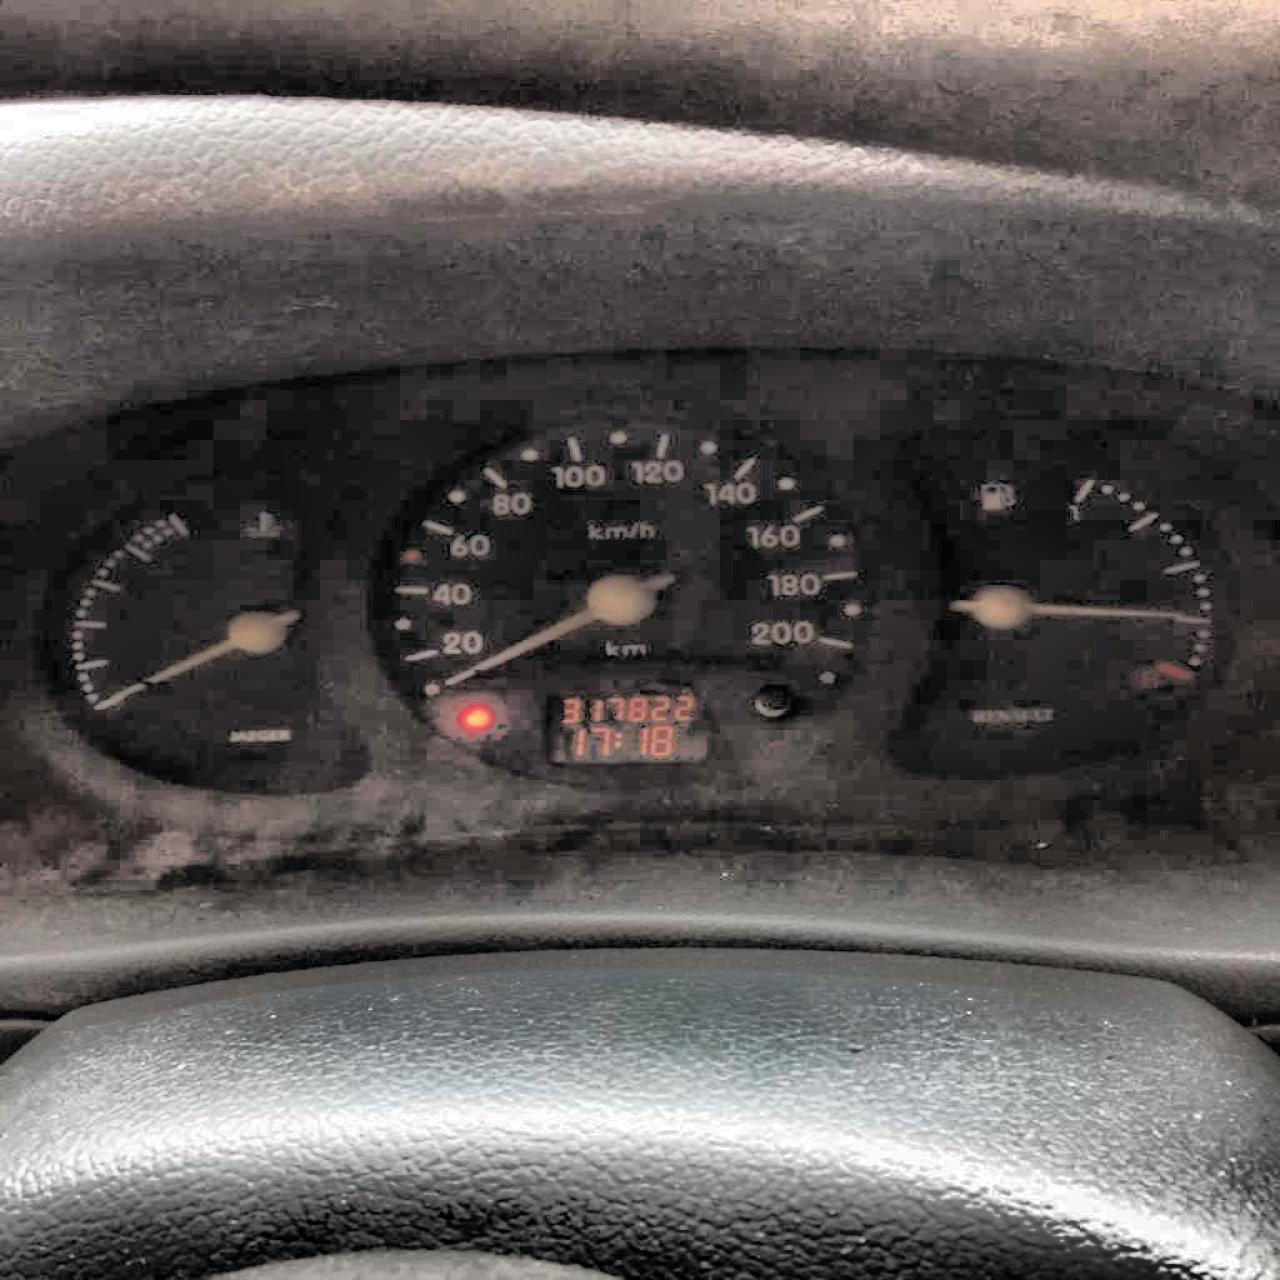1: (570, 726, 585, 756), (588, 696, 604, 722), (636, 727, 648, 754)
2: (672, 694, 693, 720), (648, 695, 668, 721)
3: (560, 696, 580, 722)
7: (587, 726, 611, 755), (605, 695, 624, 720)
8: (648, 723, 672, 756), (625, 696, 647, 722)
X: (612, 729, 621, 749)
odometer: (537, 686, 716, 765)
